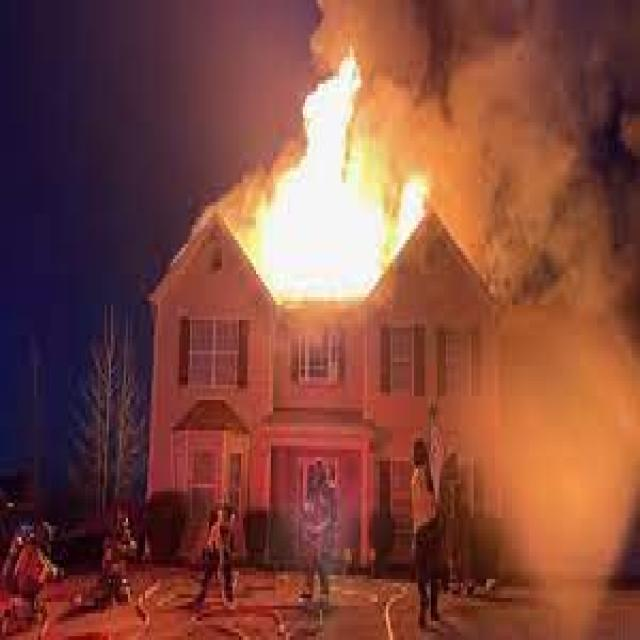fire: (225, 0, 428, 310)
